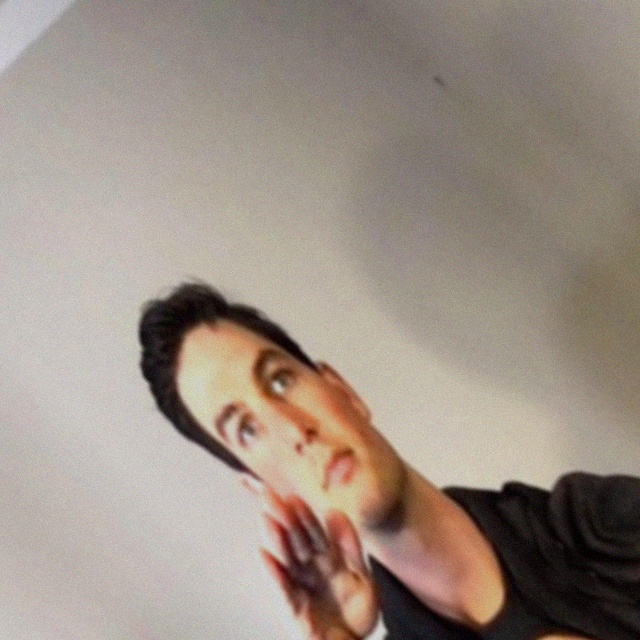Paper: (188, 454, 432, 640)
